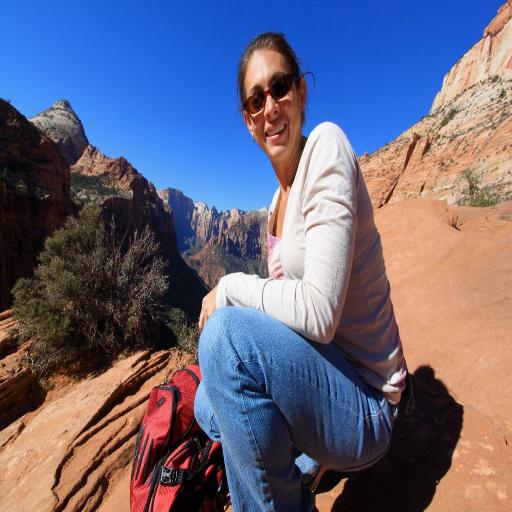Person: (171, 90, 427, 427)
goggles: (240, 139, 304, 154)
no_helmet: (234, 101, 295, 126)
none: (257, 179, 399, 336)
